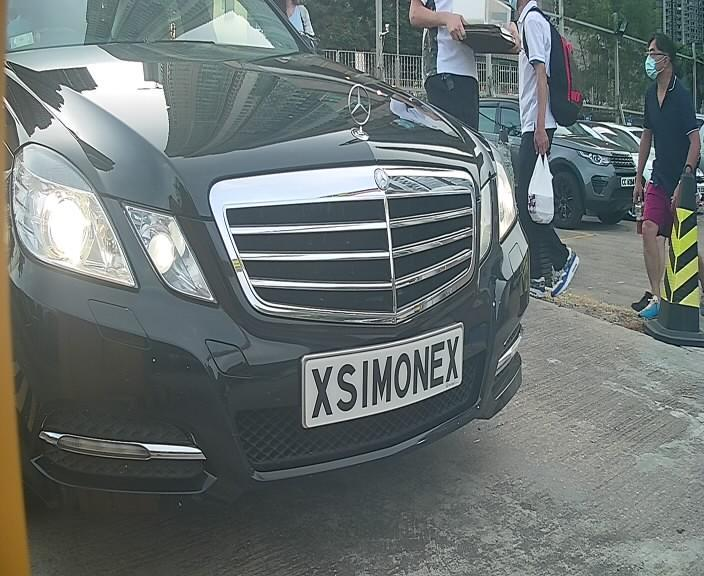privatecar: (1, 21, 563, 505)
